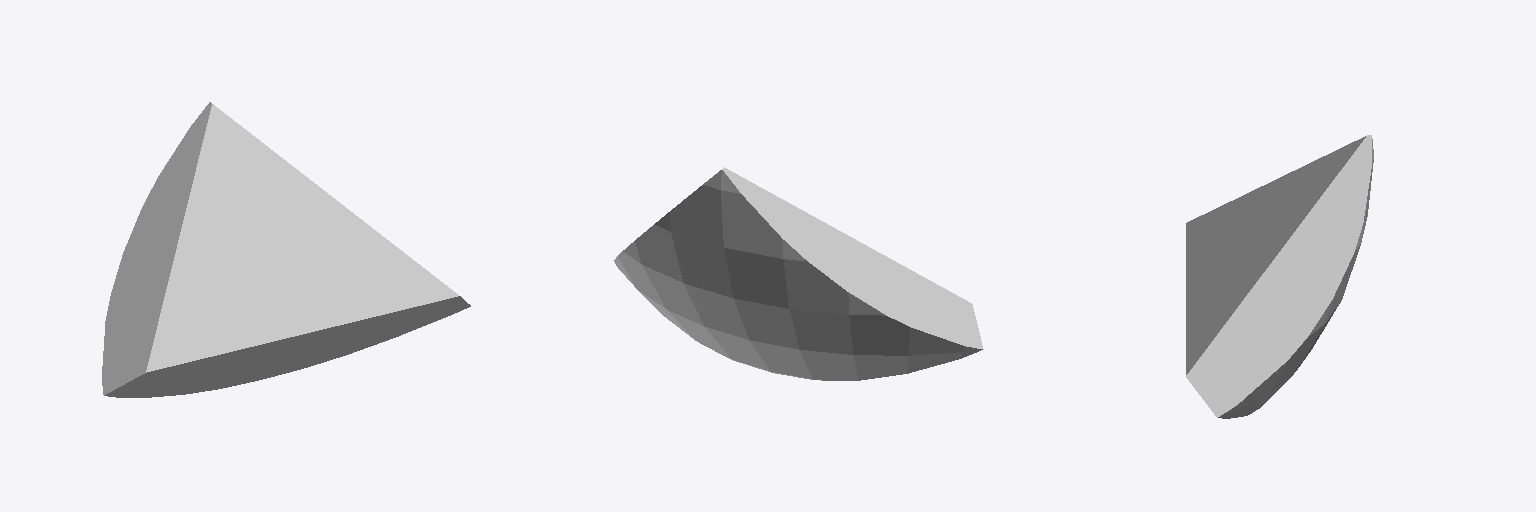
File: globe2.obj
3 renders of one model, left to right at view 1: azimuth 30°, elevation 25°; view 2: azimuth 150°, elevation 25°; view 3: azimuth 270°, elevation 25°, orthographic.
Parts seen in each view (by area): view 1: Sphere; view 2: Sphere; view 3: Sphere.
Part boxes in pixels (bbox=[...]): Sphere: bbox=[102, 102, 470, 397]; Sphere: bbox=[614, 167, 983, 380]; Sphere: bbox=[1186, 135, 1373, 418].
Bounding box in the file's own units: 4.83 × 3.02 × 2.14.